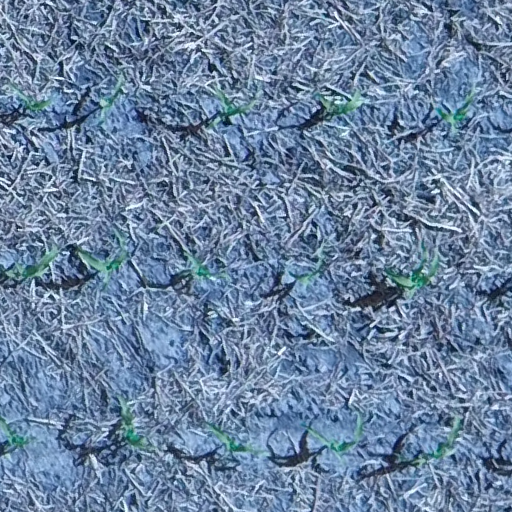planta: (394, 412, 466, 471), (71, 226, 133, 294), (381, 237, 445, 302), (302, 407, 369, 467), (203, 82, 264, 132), (112, 392, 160, 455), (202, 417, 272, 460), (430, 83, 479, 139), (175, 243, 233, 286), (283, 242, 329, 291), (94, 66, 128, 132), (310, 85, 366, 124), (5, 80, 56, 116)
